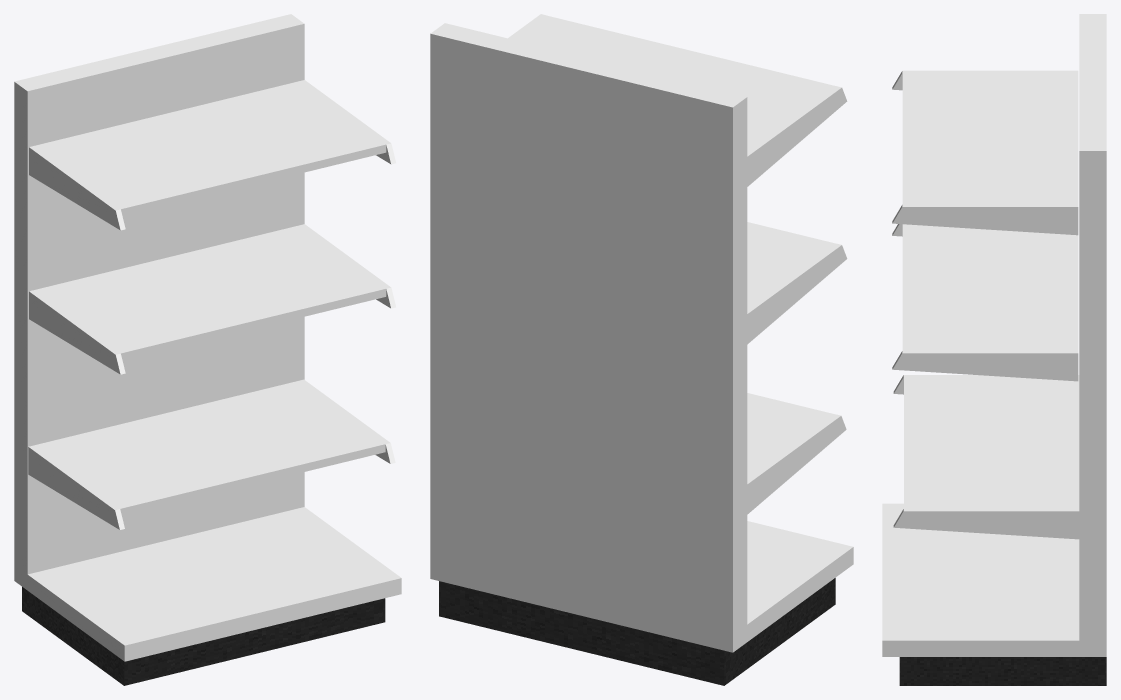
Rendered from commerical_shelf_end.glb.
The picture shows the model from 3 angles, left to right: view 1: azimuth 30°, elevation 25°; view 2: azimuth 150°, elevation 25°; view 3: azimuth 270°, elevation 25°; orthographic projection. The views are drawn at different scales.
Visible parts, largest first — view 1: Commerical_Shelf_End, Commerical_Shelf_End_Base, Commerical_Shelf_End_Shelf.001, Commerical_Shelf_End_Shelf, Commerical_Shelf_End_Shelf.002, Commerical_Shelf_End_Bottom, Commerical_Shelf_End_EndCap.005, Commerical_Shelf_End_EndCap.001, Commerical_Shelf_End_EndCap.002, Commerical_Shelf_End_EndCap.004, Commerical_Shelf_End_EndCap, Commerical_Shelf_End_EndCap.003; view 2: Commerical_Shelf_End, Commerical_Shelf_End_Bottom, Commerical_Shelf_End_Base, Commerical_Shelf_End_Shelf, Commerical_Shelf_End_Shelf.001, Commerical_Shelf_End_Shelf.002, Commerical_Shelf_End_EndCap.002, Commerical_Shelf_End_EndCap.001, Commerical_Shelf_End_EndCap.005; view 3: Commerical_Shelf_End_Base, Commerical_Shelf_End_Shelf, Commerical_Shelf_End_Shelf.002, Commerical_Shelf_End_Shelf.001, Commerical_Shelf_End, Commerical_Shelf_End_Bottom, Commerical_Shelf_End_EndCap.003, Commerical_Shelf_End_EndCap.004, Commerical_Shelf_End_EndCap, Commerical_Shelf_End_EndCap.001, Commerical_Shelf_End_EndCap.005.
Part boxes in pixels (x1,y1,x2,y2): Commerical_Shelf_End: [14, 14, 304, 574]; Commerical_Shelf_End_Base: [14, 507, 401, 661]; Commerical_Shelf_End_Shelf.001: [34, 225, 386, 360]; Commerical_Shelf_End_Shelf: [34, 81, 386, 216]; Commerical_Shelf_End_Shelf.002: [34, 381, 385, 516]; Commerical_Shelf_End_Bottom: [22, 587, 385, 685]; Commerical_Shelf_End_EndCap.005: [28, 445, 124, 529]; Commerical_Shelf_End_EndCap.001: [29, 146, 125, 230]; Commerical_Shelf_End_EndCap.002: [29, 290, 125, 374]; Commerical_Shelf_End_EndCap.004: [299, 379, 395, 463]; Commerical_Shelf_End_EndCap: [300, 80, 395, 164]; Commerical_Shelf_End_EndCap.003: [300, 224, 395, 308]; Commerical_Shelf_End: [430, 23, 747, 634]; Commerical_Shelf_End_Bottom: [439, 578, 835, 685]; Commerical_Shelf_End_Base: [430, 521, 853, 652]; Commerical_Shelf_End_Shelf: [513, 15, 835, 150]; Commerical_Shelf_End_Shelf.001: [747, 222, 835, 308]; Commerical_Shelf_End_Shelf.002: [747, 393, 835, 478]; Commerical_Shelf_End_EndCap.002: [747, 243, 847, 344]; Commerical_Shelf_End_EndCap.001: [747, 86, 847, 186]; Commerical_Shelf_End_EndCap.005: [747, 414, 846, 514]; Commerical_Shelf_End_Base: [882, 503, 1106, 656]; Commerical_Shelf_End_Shelf: [902, 73, 1078, 204]; Commerical_Shelf_End_Shelf.002: [904, 377, 1079, 508]; Commerical_Shelf_End_Shelf.001: [902, 224, 1078, 350]; Commerical_Shelf_End: [1079, 14, 1106, 640]; Commerical_Shelf_End_Bottom: [899, 657, 1106, 685]; Commerical_Shelf_End_EndCap.003: [892, 350, 1078, 381]; Commerical_Shelf_End_EndCap.004: [893, 508, 1079, 539]; Commerical_Shelf_End_EndCap: [892, 204, 1078, 235]; Commerical_Shelf_End_EndCap.001: [892, 70, 1078, 90]; Commerical_Shelf_End_EndCap.005: [893, 375, 1079, 394].
Bounding box in the file's own units: 0.9144 × 1.68 × 0.6318.
4 materials, 1 textured.
